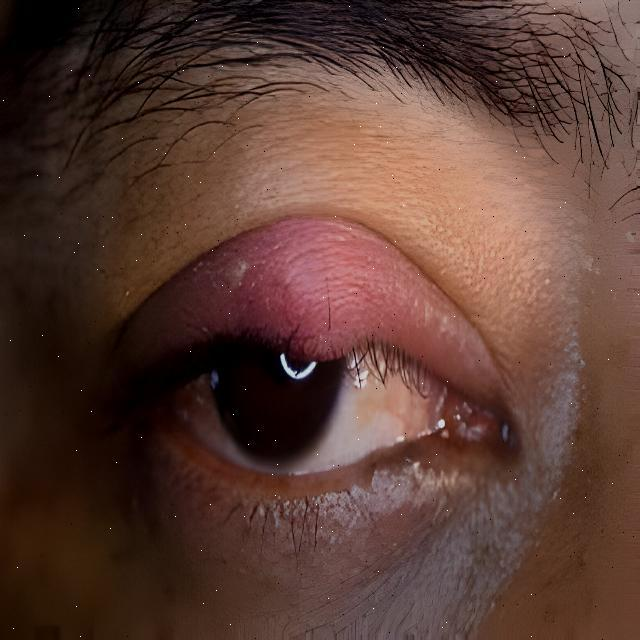Stye: (192, 226, 444, 396)
